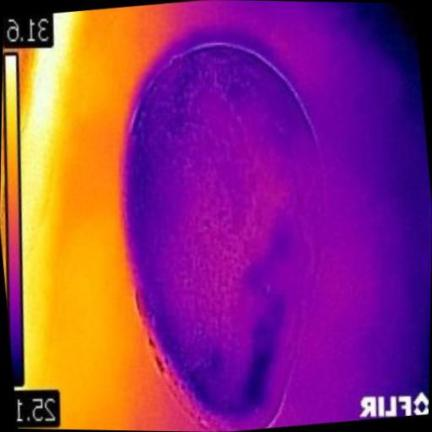mango: (125, 45, 322, 429)
